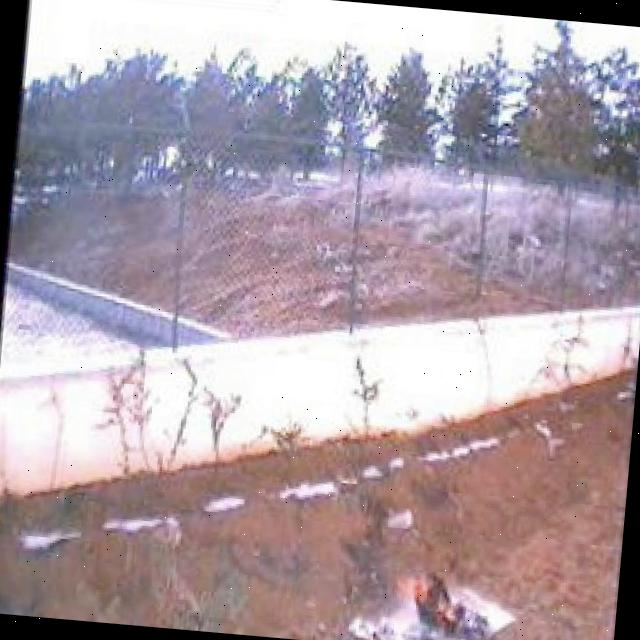fire: (392, 566, 488, 640)
